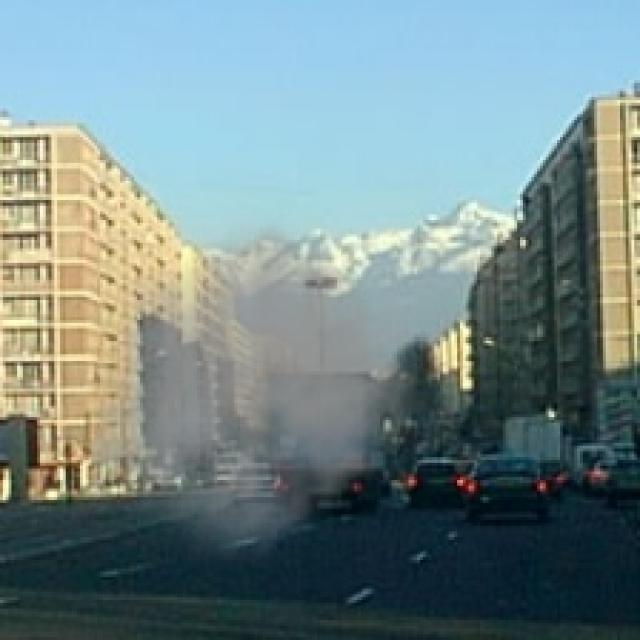smoke: (94, 209, 454, 574)
